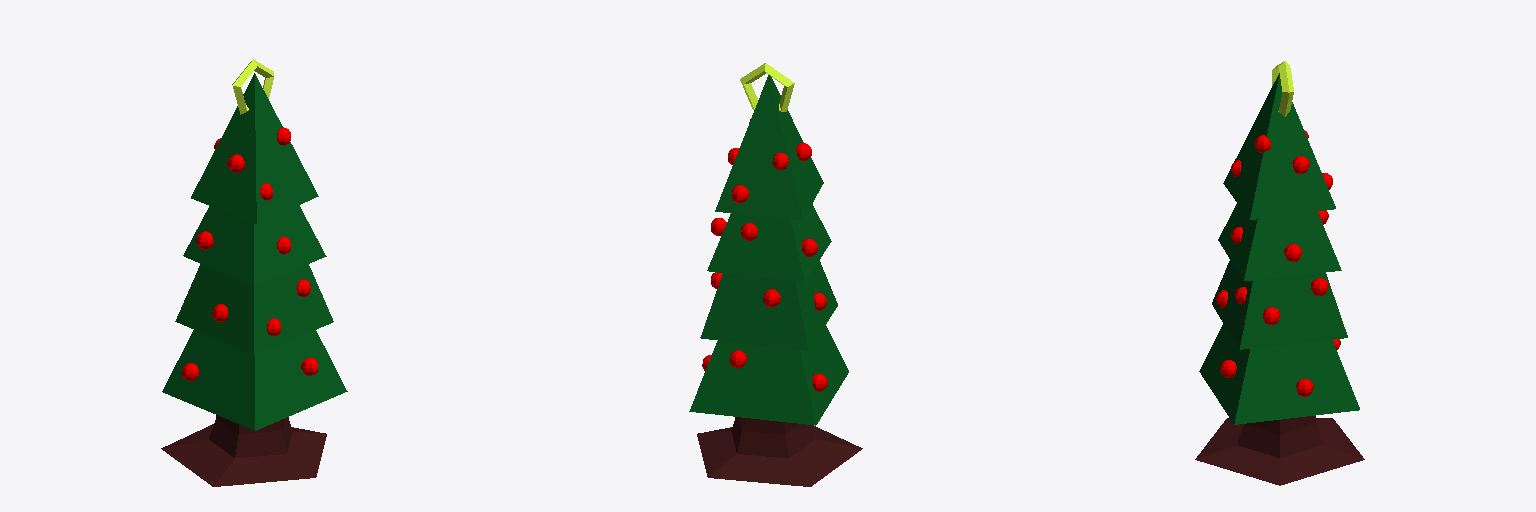
3 views of the same model, side by side, from view 1: azimuth 30°, elevation 25°; view 2: azimuth 150°, elevation 25°; view 3: azimuth 270°, elevation 25° (orthographic).
Visible parts, largest first — view 1: pSphere21; view 2: pSphere21; view 3: pSphere21.
Boxes of the visible parts, x1=… form: pSphere21: x1=161, y1=59, x2=347, y2=486; pSphere21: x1=689, y1=63, x2=862, y2=486; pSphere21: x1=1195, y1=61, x2=1364, y2=485.
Size of the model in its own units: 0.5216 by 1.37 by 0.5396.
Materials: 26 (4 with a texture image).